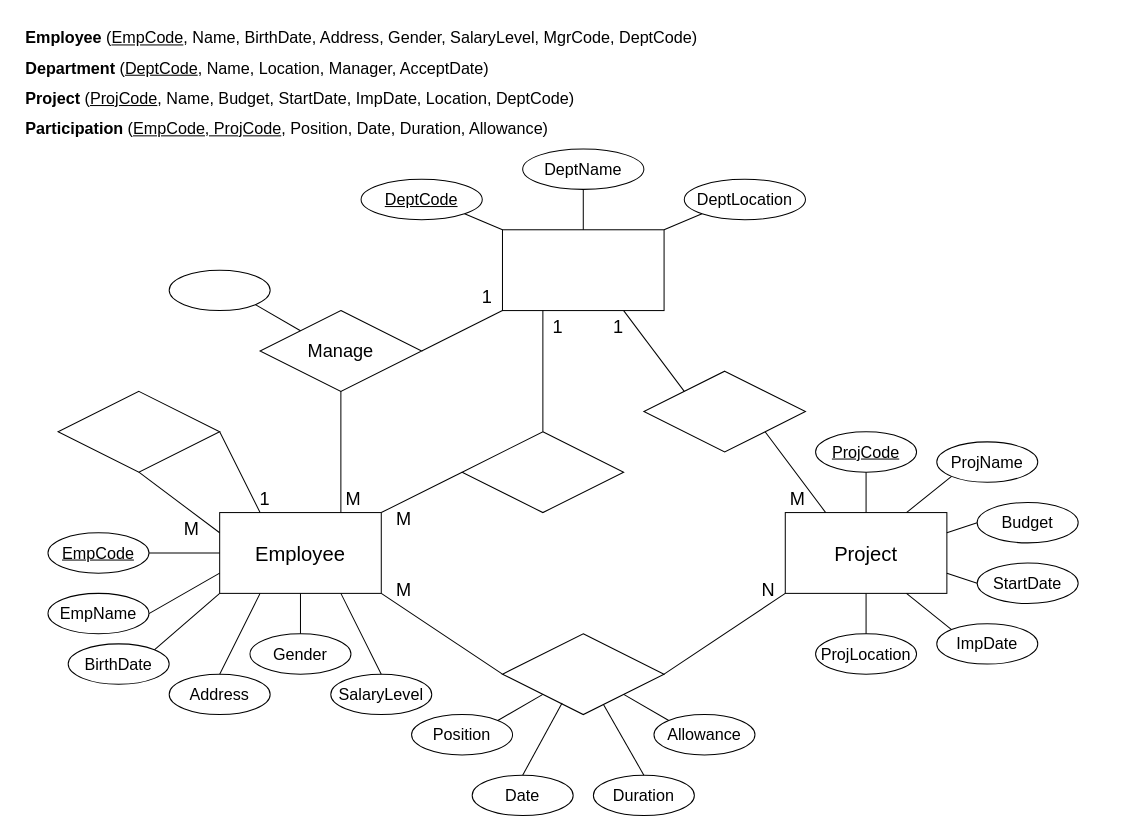
This 1125x833 diagram has some shape labels left out. Each missing label, with the centre of its shape:
"AcceptDate" belongs at pixel 219 290.
"Department" belongs at pixel 582 270.
"Lead" belongs at pixel 724 411.
"Managed by" belongs at pixel 138 431.
"Participation" belongs at pixel 582 674.
"Work in" belongs at pixel 542 472.
